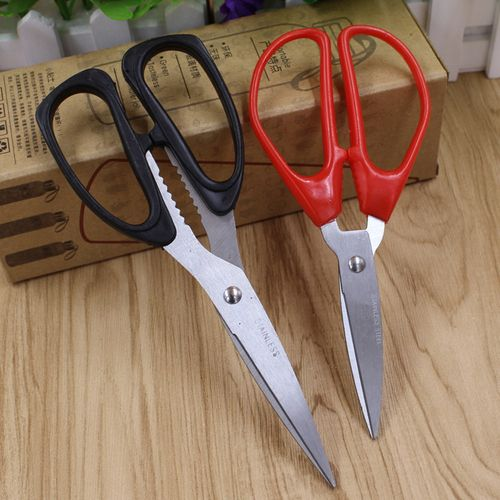scissor: (35, 34, 333, 485), (251, 25, 433, 441)
